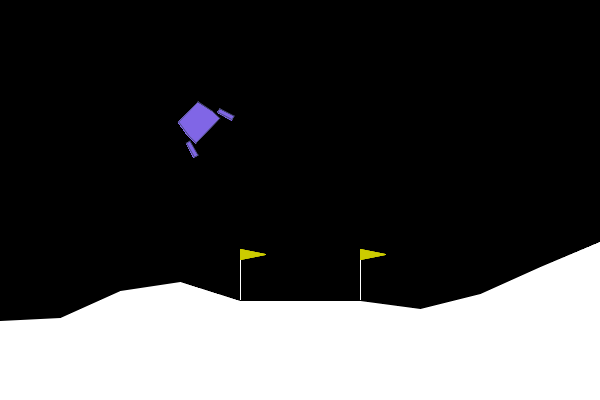lander: (166, 89, 236, 160)
